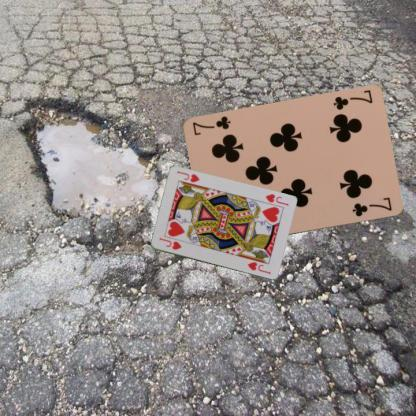7c: (330, 87, 374, 112)
Jh: (156, 235, 182, 251), (263, 192, 289, 208)
